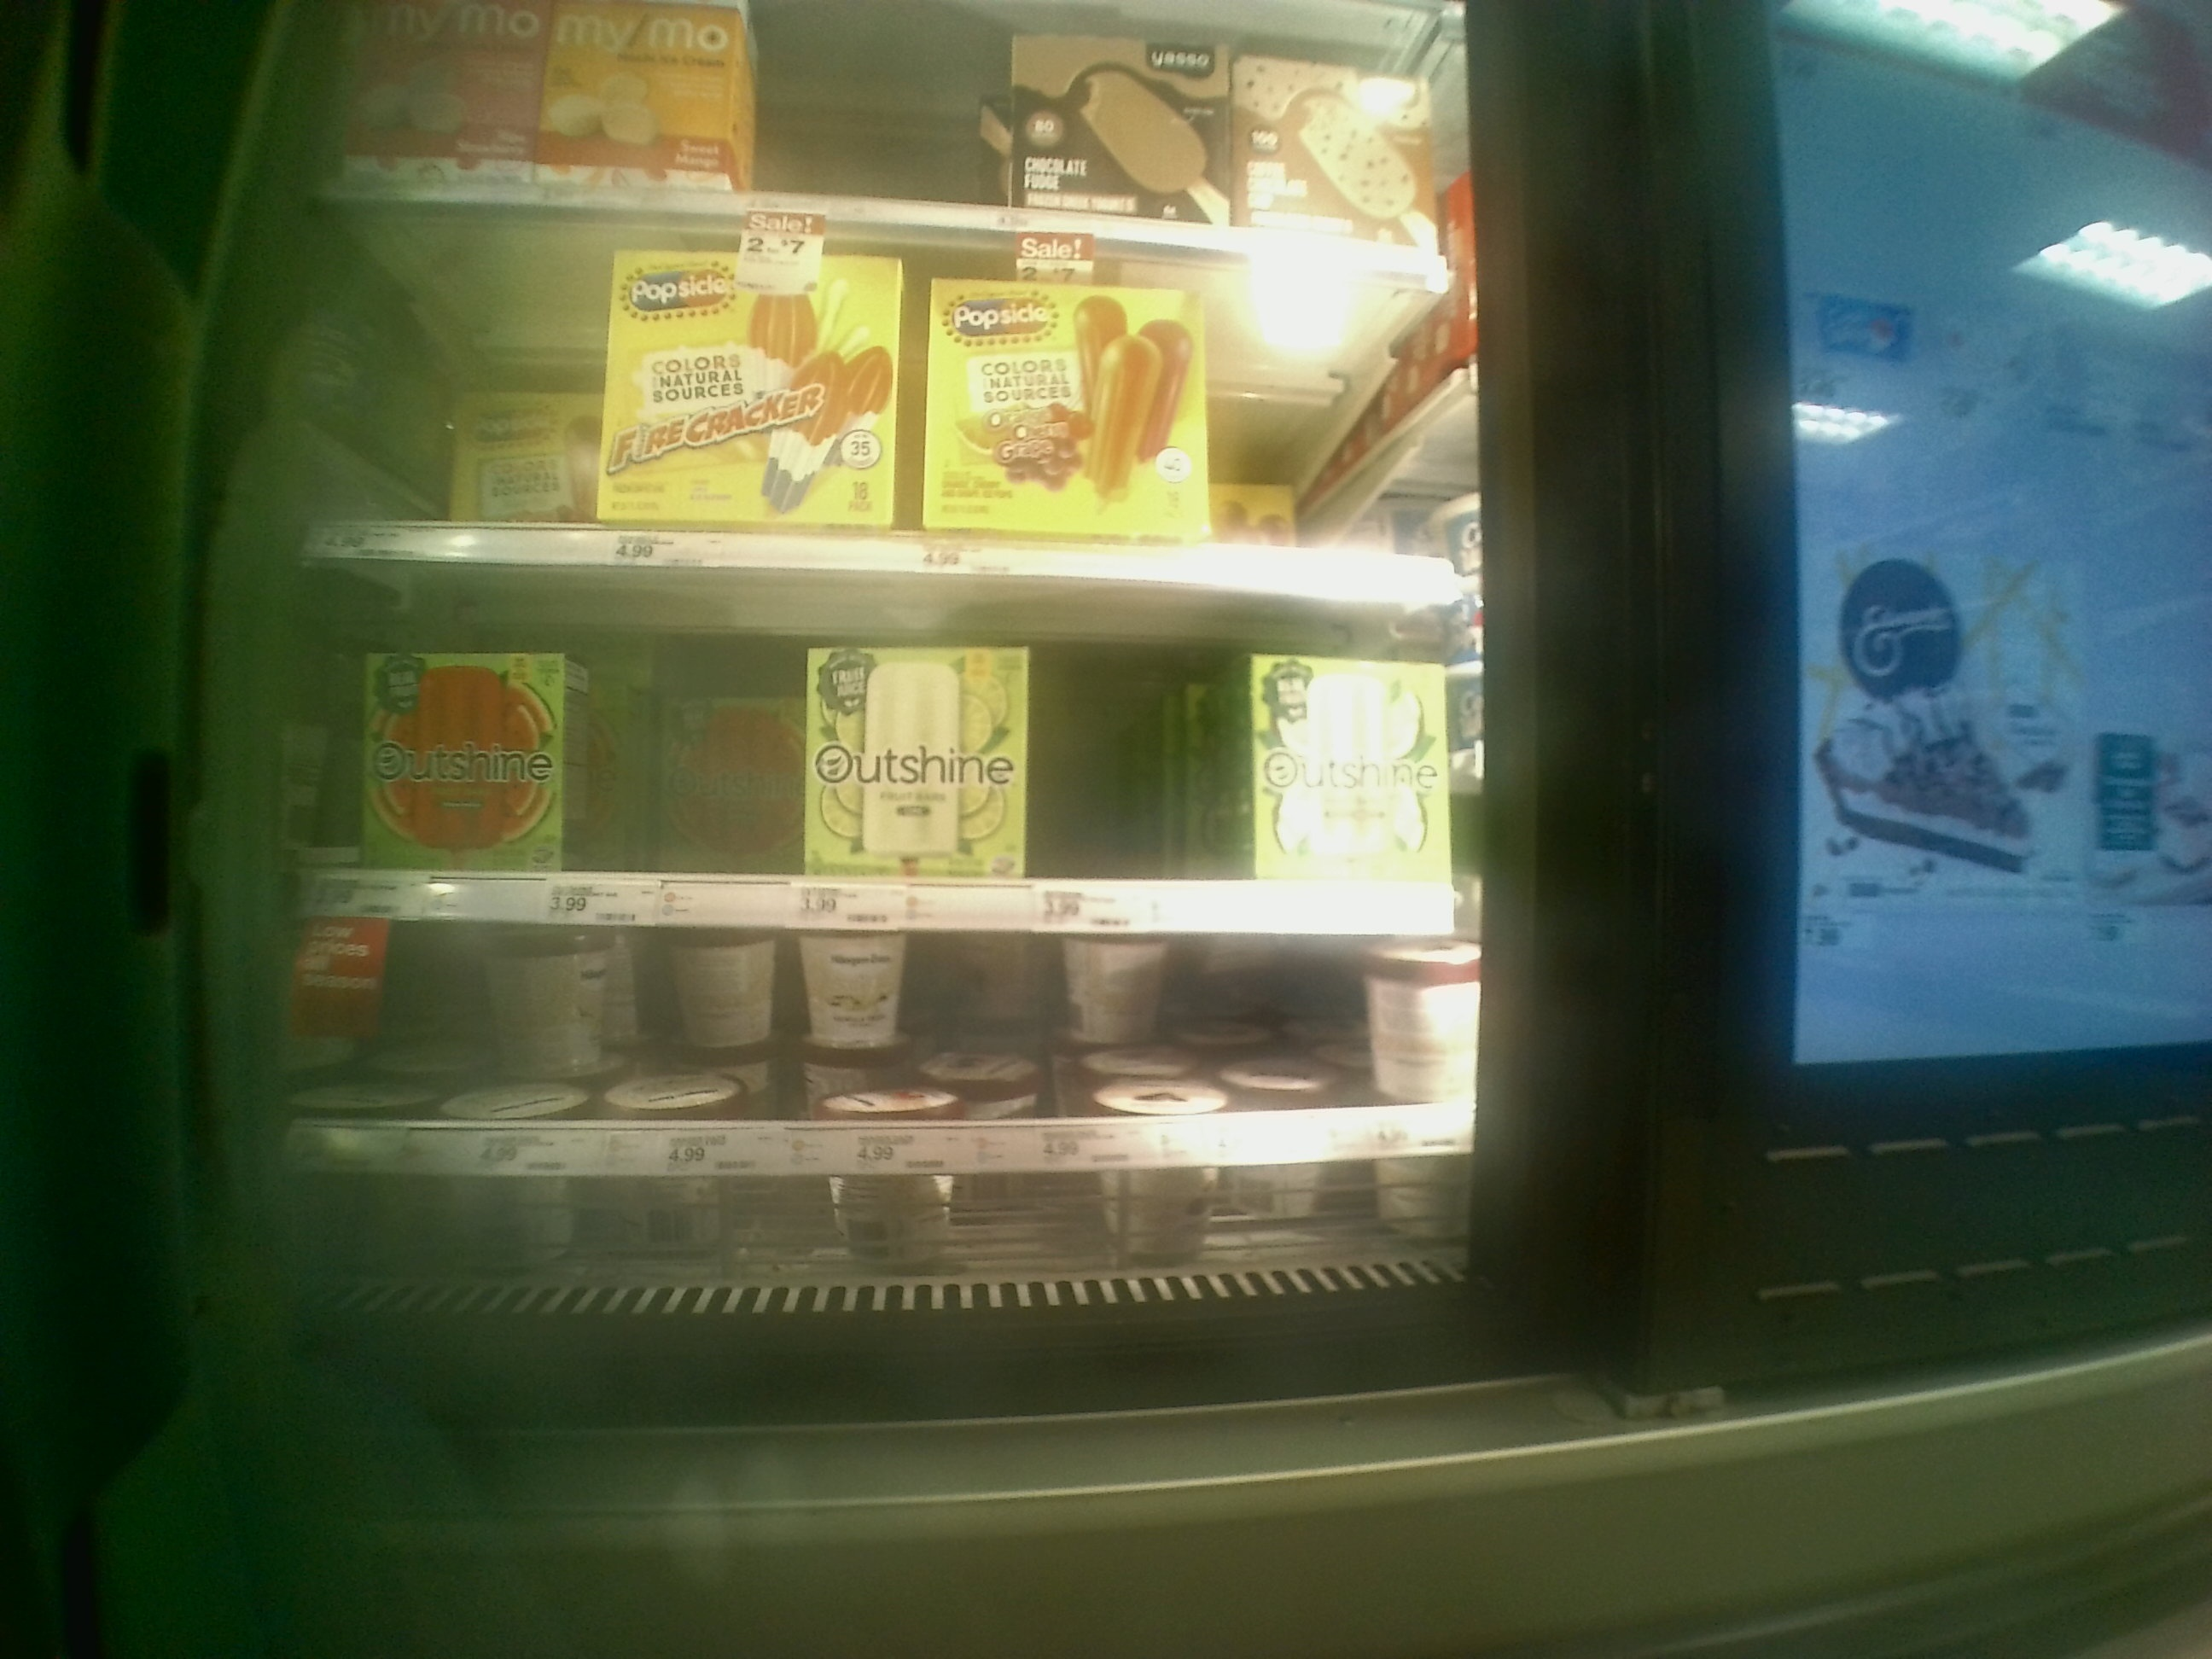ice-cream-shelf: (329, 204, 1474, 586), (327, 561, 1484, 938), (301, 925, 1472, 1168)
